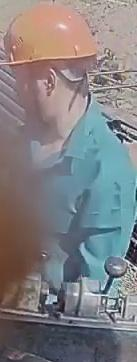helmet: (0, 1, 97, 75)
vest: (1, 117, 136, 293)
